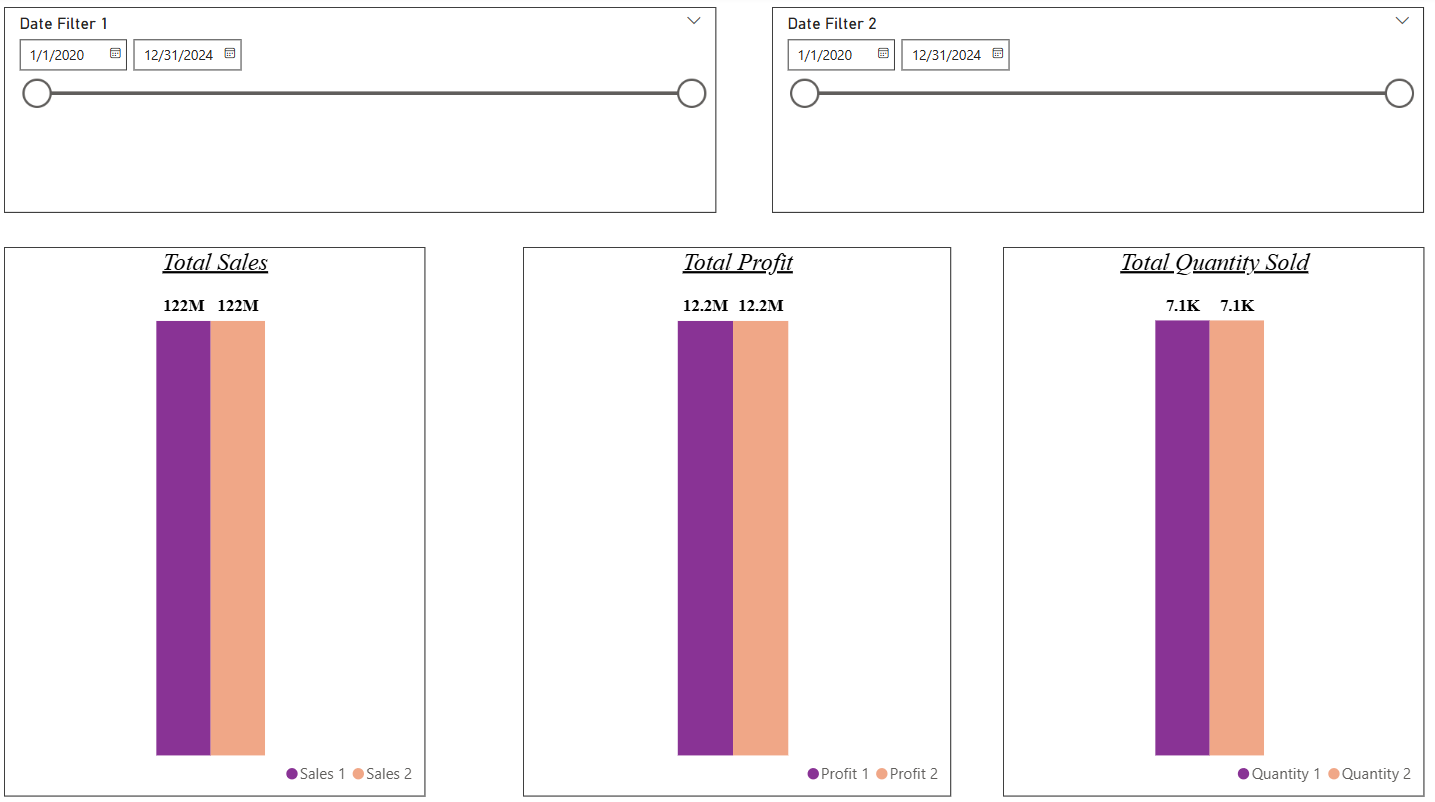

Layout of this report page (visuals, bound fields, positions):
{"tool":"powerbi","page":{"name":"Comparison Sales/Profit/Quantity","canvas":[1280,720],"ordinal":2},"visuals":[{"type":"slicer","fields":{"Values":["Date Table 1.Date"]},"box":[10.6,10.6,629.9,181.7],"z":0},{"type":"slicer","fields":{"Values":["Date Table 2.Date"]},"box":[690.5,10.6,576.9,181.7],"z":1000},{"type":"clusteredColumnChart","title":"Total Sales","fields":{"Y":["Sum(Fact Table.Net Sales)","Measure Table.Sum of Sales"]},"box":[10.6,222.6,372.5,486.1],"z":2000},{"type":"clusteredColumnChart","title":"Total Profit","fields":{"Y":["Sum(Fact Table.Profit)","Measure Table.Sum of Total Profit"]},"box":[469.4,222.6,378.6,486.1],"z":3000},{"type":"clusteredColumnChart","title":"Total Quantity Sold","fields":{"Y":["Sum(Fact Table.Units Sold)","Measure Table.Sum of Quantity Sold"]},"box":[894.9,222.6,372.5,486.1],"z":4000}]}

Visuals, with their boxes in screenshot pixels (x1, y1, x2, y2), scaled from the page's 1280x720 canvas onto the 1435x802 screenshot:
slicer - Date Table 1.Date: bbox=(12, 12, 718, 214)
slicer - Date Table 2.Date: bbox=(774, 12, 1421, 214)
"Total Sales" clusteredColumnChart: bbox=(12, 248, 429, 789)
"Total Profit" clusteredColumnChart: bbox=(526, 248, 951, 789)
"Total Quantity Sold" clusteredColumnChart: bbox=(1003, 248, 1421, 789)
